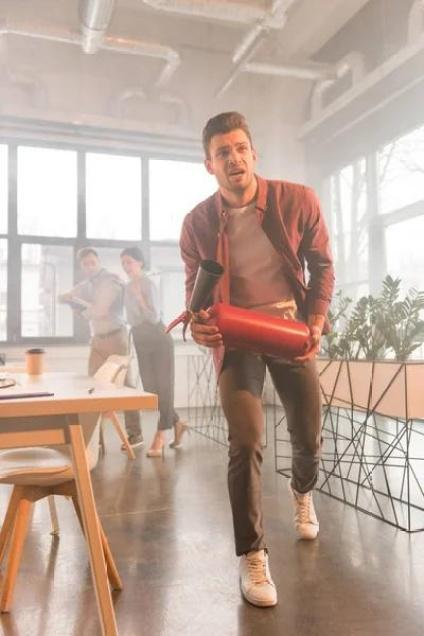APAR: (166, 300, 312, 363)
